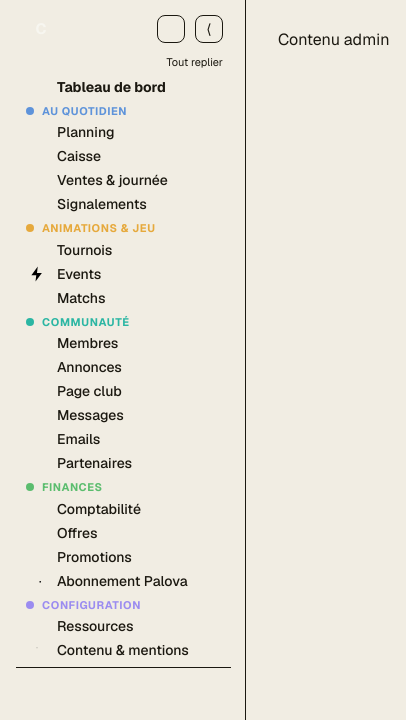
Test: AdminLayout — sections repliables › replier une section masque ses entrées (le tableau de bord reste)
Click the button titled "Replier Au quotidien".
click(124, 111)  # box left=16, top=102, right=231, bottom=120
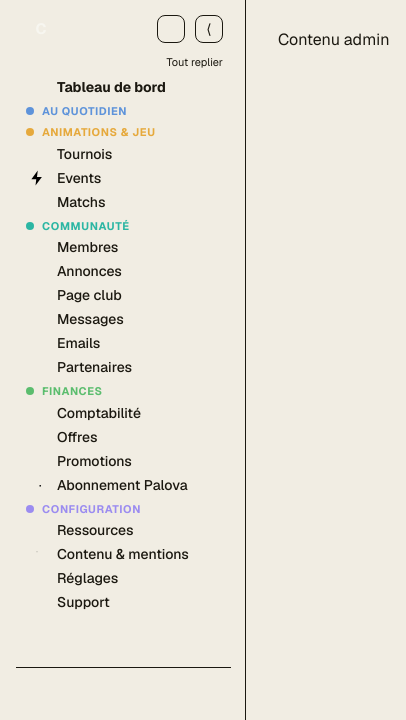
Check: the text "Tableau de bord" is shown, box left=57, top=78, right=166, bottom=96
Check: the link "Planning" is gone
